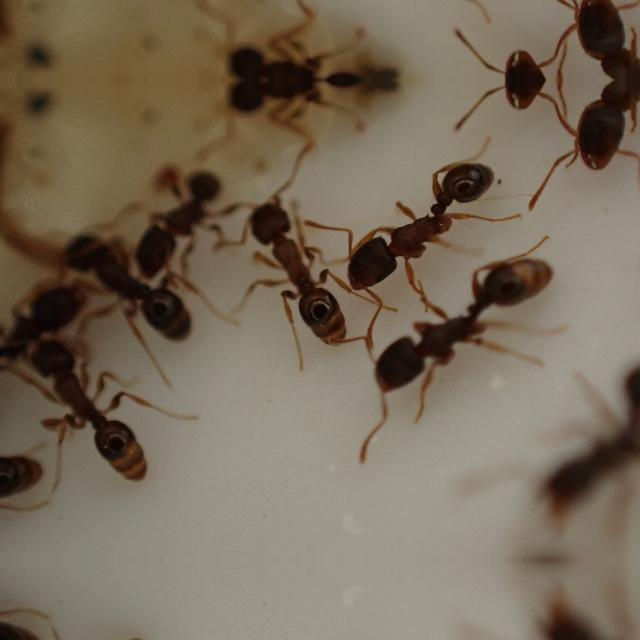Temnothorax: (348, 233, 584, 419), (306, 140, 516, 302), (218, 184, 368, 356), (24, 326, 164, 484), (121, 139, 237, 279), (54, 218, 192, 326), (202, 80, 430, 140), (202, 20, 430, 80), (526, 80, 640, 184), (0, 264, 90, 374), (526, 0, 638, 80), (442, 80, 602, 120), (442, 40, 602, 80)
